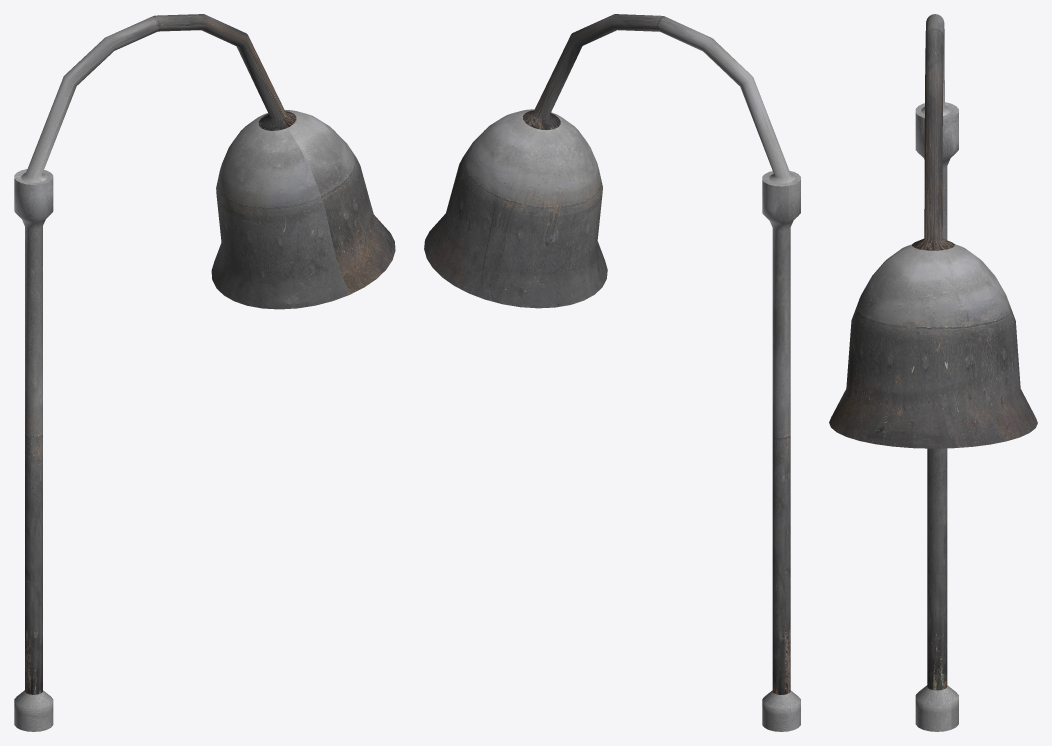
File: lampPostTextured.FBX
3 renders of one model, left to right at view 1: azimuth 30°, elevation 25°; view 2: azimuth 150°, elevation 25°; view 3: azimuth 270°, elevation 25°, orthographic. The views are drawn at different scales.
Visible parts, largest first — view 1: Sphere001, Cylinder002, Cylinder004; view 2: Sphere001, Cylinder002, Cylinder004; view 3: Sphere001, Cylinder002, Cylinder004.
Part boxes in pixels (x1,y1,x2,y2): Sphere001: (211,110,395,309); Cylinder002: (14,169,53,731); Cylinder004: (21,14,296,182); Sphere001: (424,109,607,308); Cylinder002: (762,171,800,731); Cylinder004: (523,14,795,183); Sphere001: (829,244,1037,448); Cylinder002: (915,102,958,731); Cylinder004: (912,14,954,250).
Size of the model in its own units: 181 by 321 by 80.11.
Materials: 3 (3 with a texture image).
